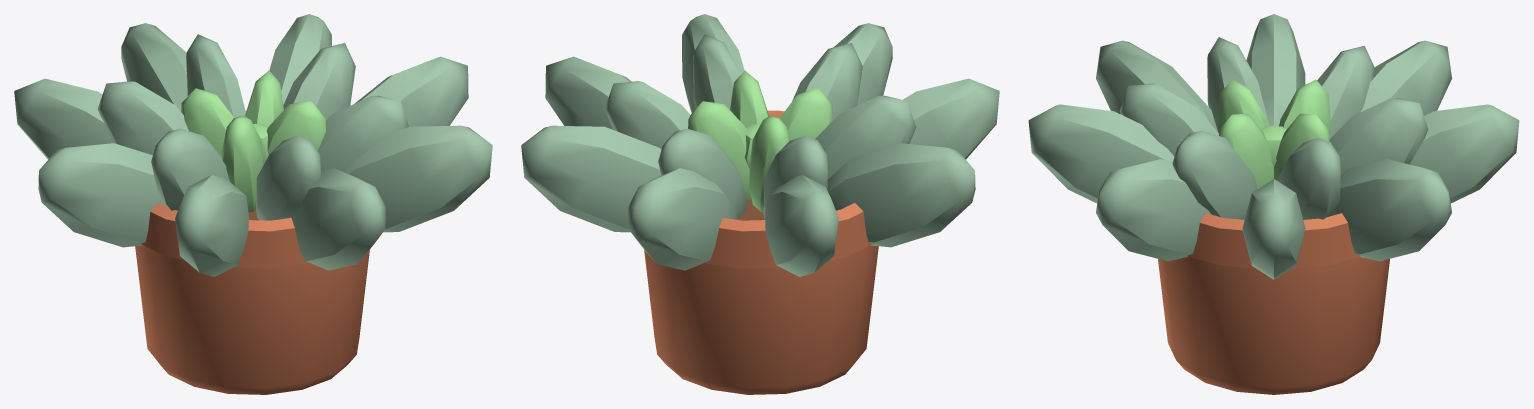
File: succulent.glb
The picture shows the model from 3 angles, left to right: view 1: azimuth 30°, elevation 25°; view 2: azimuth 150°, elevation 25°; view 3: azimuth 270°, elevation 25°; orthographic projection.
Visible parts, largest first — view 1: leaf_outer, pot, leaf_inner; view 2: leaf_outer, pot, leaf_inner; view 3: leaf_outer, pot, leaf_inner.
Part boxes in pixels (x1,y1,x2,y2): leaf_outer: [14, 14, 492, 276]; pot: [135, 111, 369, 394]; leaf_inner: [181, 70, 325, 212]; leaf_outer: [521, 14, 999, 276]; pot: [644, 110, 878, 394]; leaf_inner: [688, 70, 833, 212]; leaf_outer: [1028, 14, 1519, 279]; pot: [1158, 213, 1389, 394]; leaf_inner: [1217, 79, 1330, 188].
Bounding box in the file's own units: 0.1621 × 0.0957 × 0.1621.
